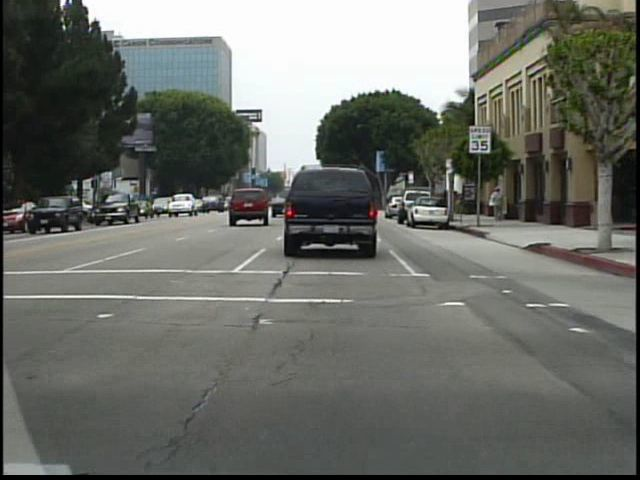person: (488, 182, 507, 227), (438, 186, 453, 221)
